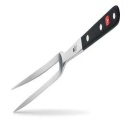Fork: (14, 5, 124, 110)
